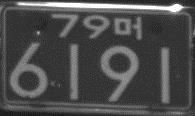1: (57, 43, 90, 101), (150, 46, 181, 104)
6: (8, 42, 48, 98)
7: (50, 12, 79, 38)
9: (99, 44, 140, 103), (81, 13, 110, 39)
머: (113, 15, 143, 40)
